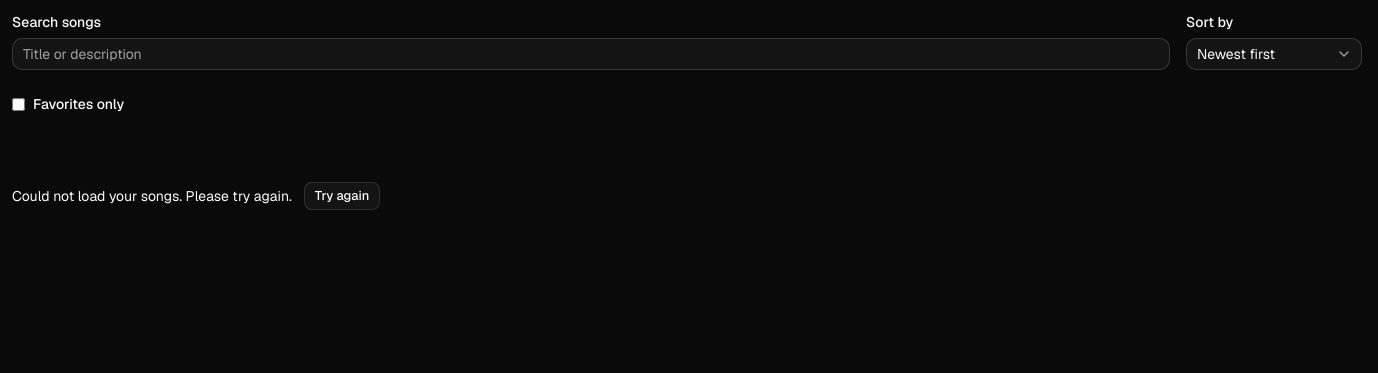
Test: LibraryList › shows a safe error with retry, and recovers
The width and height of the screenshot is (1378, 373).
expect the message with test id "library-error" shows "Could not load your songs. Please try again.": met, box 12,187 -> 292,205
Step 1. Click the button "Try again" → (342, 196), box 304,182 -> 380,210
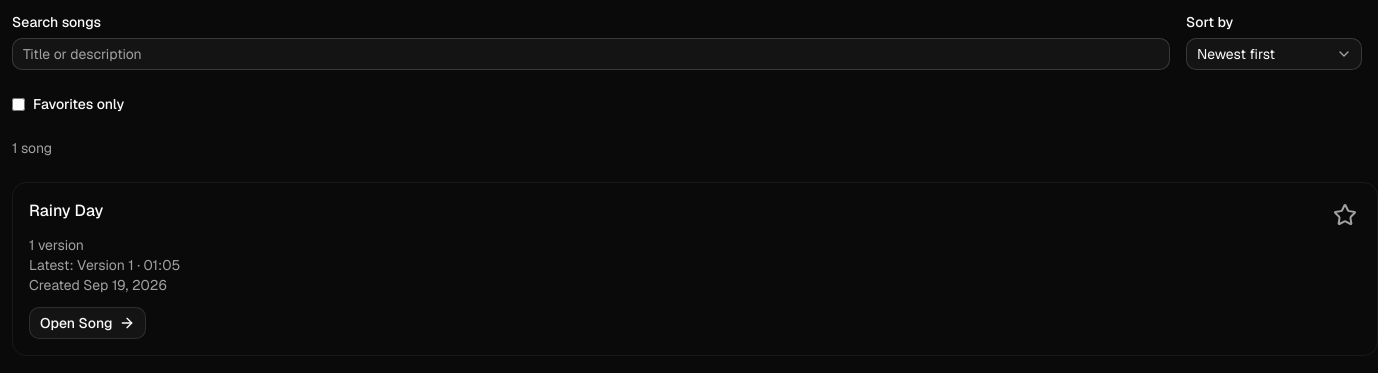
expect the heading "Rainy Day" is shown: met, box 29,199 -> 103,223
expect the message with test id "library-error" is gone: met
